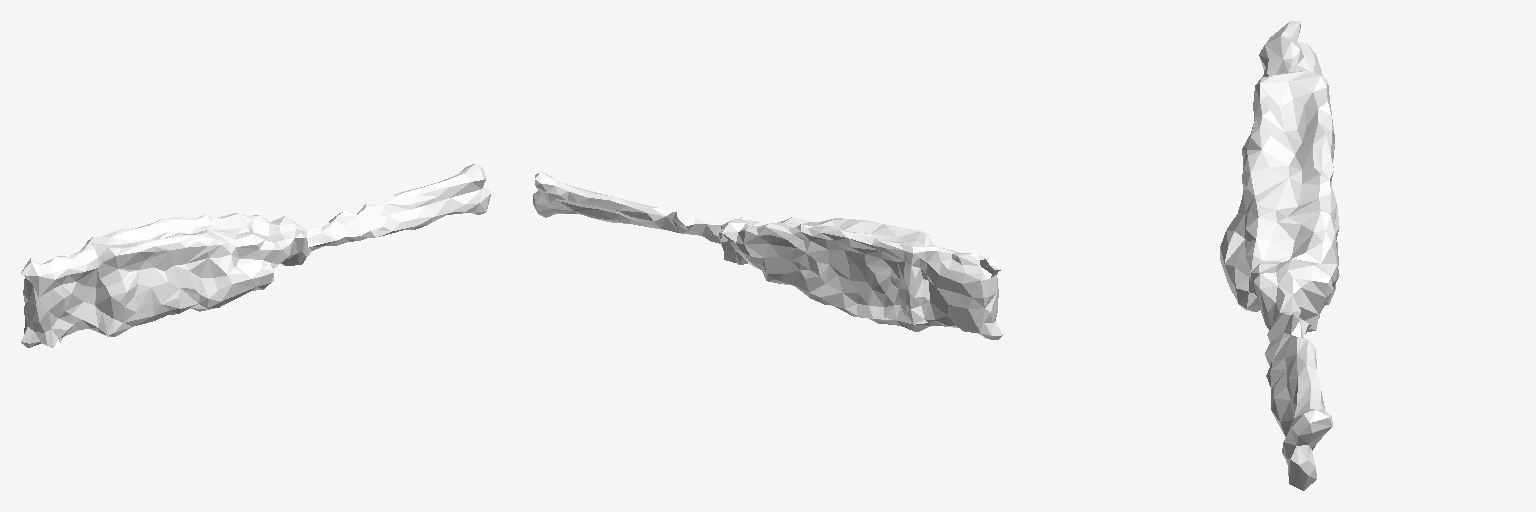
The robot description file, URDF, robot "atb1_conn-usb":
<?xml version="0.0" ?>
<robot name="atb1_conn-usb">
  <link name="baseLink">
    <contact>
      <friction_anchor/>
      <lateral_friction value="0.8"/>
      <spinning_friction value="0.001"/>
      <rolling_friction value="0.001"/>
      <contact_cfm value="0.0"/>
      <contact_erp value="0.2"/>
    </contact>
    <inertial>
       <origin rpy="0 0 0" xyz="0 0 0"/>
       <mass value="0.01"/>
       <inertia ixx="1e-3" ixy="0" ixz="0" iyy="1e-3" iyz="0" izz="1e-3"/>
    </inertial>
    <visual>
      <origin rpy="0 0 0" xyz="0 0 0"/>
      <geometry>
        <mesh filename="obj/fused_model.obj" scale="1 1 1"/>
      </geometry>
      <material name="white">
        <color rgba="1. 1. 1. 1."/>
      </material>
    </visual>
    <collision>
      <origin rpy="0 0 0" xyz="0 0 0"/>
      <geometry>
        <mesh filename="obj/fused_model.obj" scale="1 1 1"/>
      </geometry>
    </collision>
  </link>
</robot>

--- Facts derived from the render (not from the file) ---
3 views of the same robot in one strip: view 1: azimuth 30°, elevation 25°; view 2: azimuth 150°, elevation 25°; view 3: azimuth 270°, elevation 25° (orthographic).
Model atb1_conn-usb with 1 links and 0 joints (none), rooted at baseLink, posed all joints at 0.
Visible links, largest first — view 1: baseLink; view 2: baseLink; view 3: baseLink.
Link boxes in pixels (<box>): baseLink: <box>21,164,490,347</box>; baseLink: <box>533,172,1002,339</box>; baseLink: <box>1220,21,1339,490</box>.
Bounding box of the posed robot: 0.0892 × 0.0119 × 0.016 m (x, y, z).
Meshes: 1 distinct files referenced, 1 mesh visuals loaded (1 OBJ).
